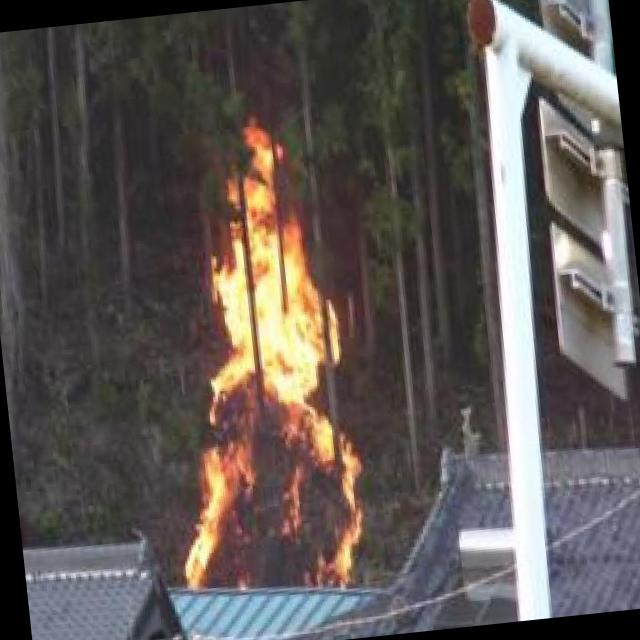Fire: (142, 113, 366, 598)
